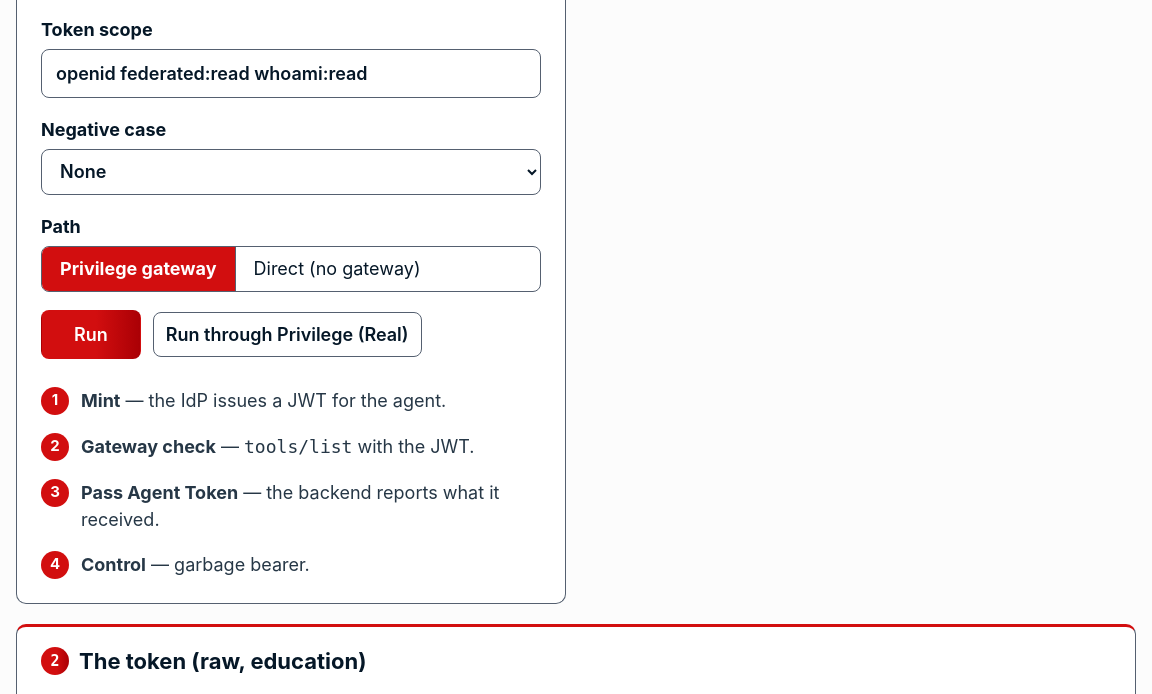
it: Workload Identity Lab › json panes offer Form | JSON and render claims in both
(page scrolled)
Click the button with test id "run-btn".
click(91, 334)  # box [41,310,141,359]
(page scrolled)
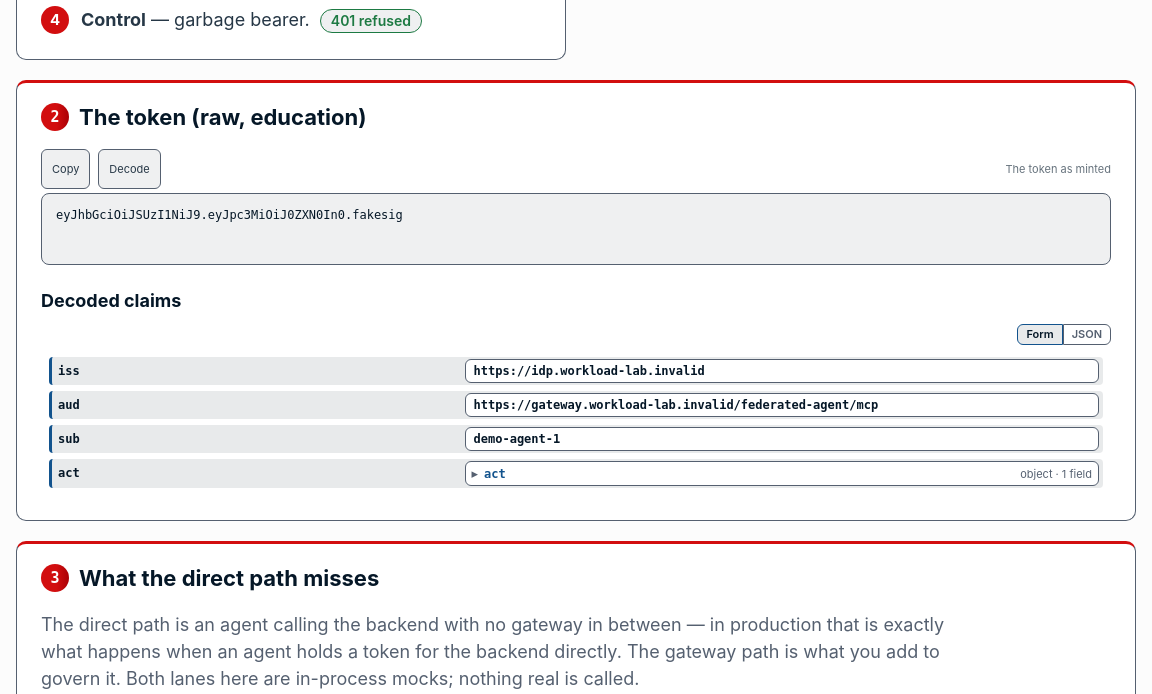
Expected: the element with test id "claims-view" is shown, [41,348,1111,496]
Expected: the button with test id "claims-view-formatted" reads "Form", [1018,324,1063,344]
Expected: the button with test id "claims-view-raw" reads "JSON"
// switch to JSON: the exact JSON text, coloured
Click the button with test id "claims-view-raw".
click(1087, 334)  # box [1063,324,1111,344]
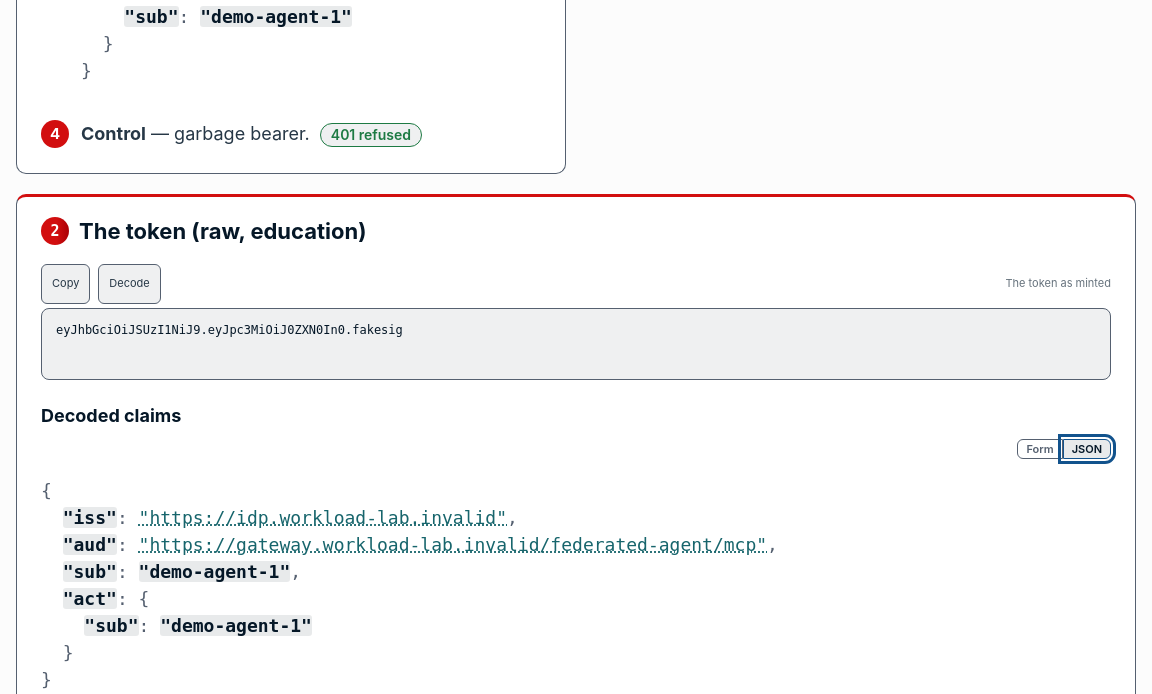
Expected: the element with test id "claims-view" shows "\"iss\"", [63,507,117,528]
// back to Form
Click the button with test id "claims-view-formatted".
click(1040, 449)  # box [1018,438,1063,459]
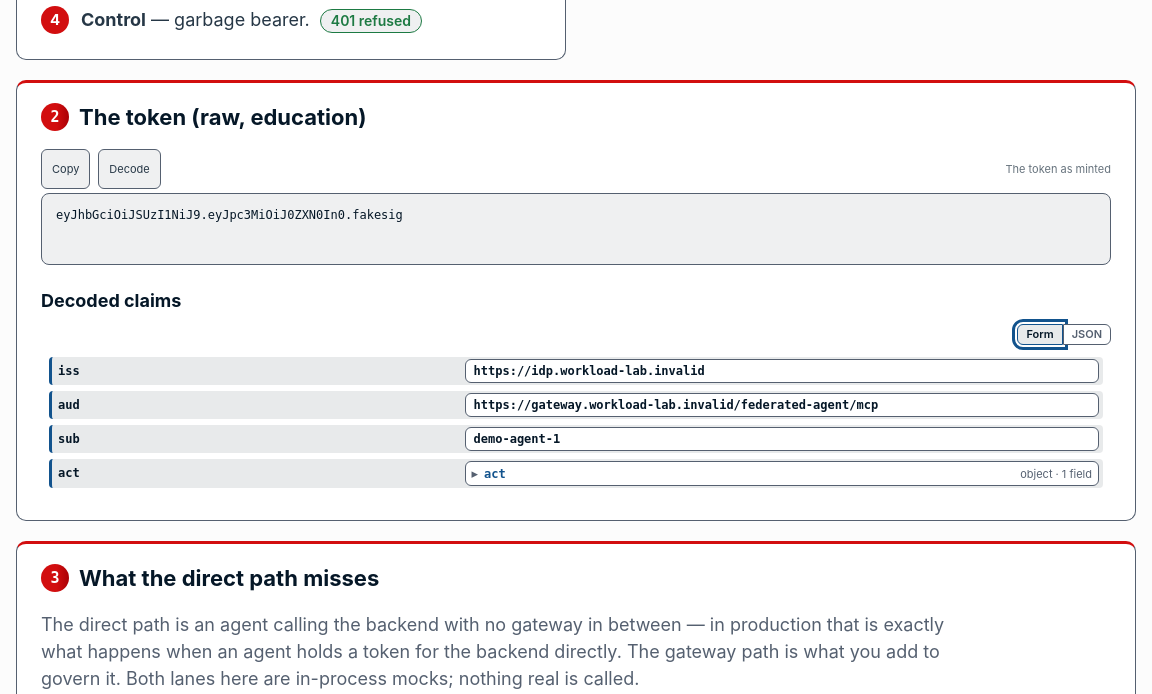
Expected: the element with test id "claims-view" shows "iss", [58,364,80,378]
